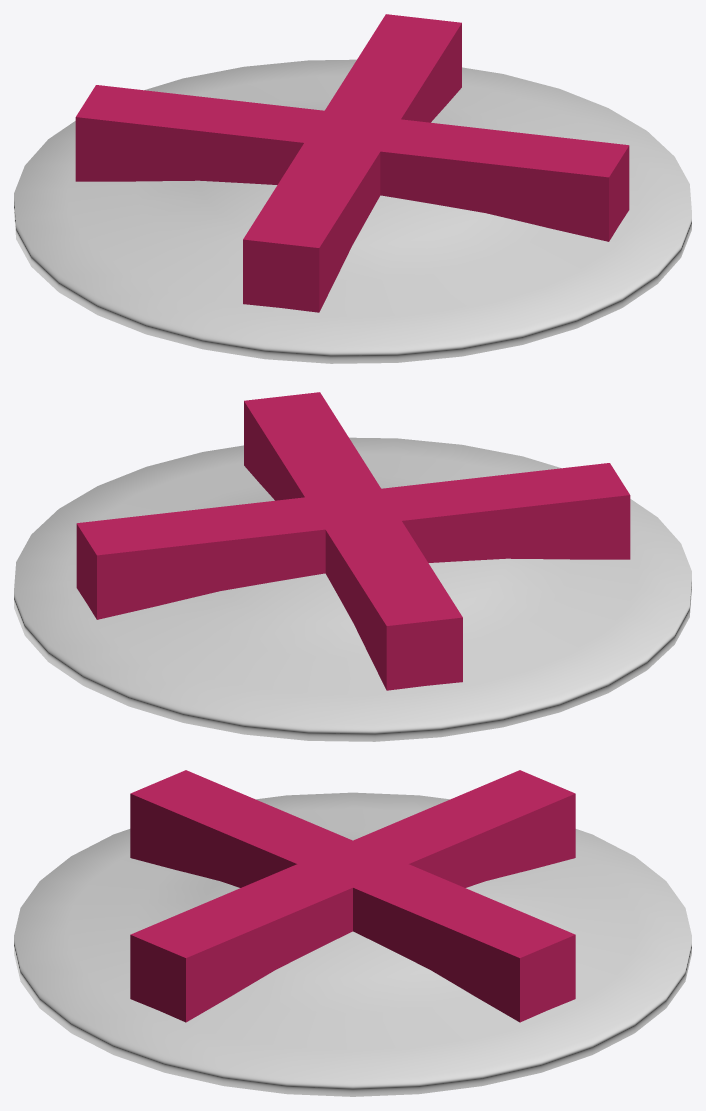
File: ExitButton.gltf
3 views of the same model, one above another, from view 1: azimuth 30°, elevation 25°; view 2: azimuth 150°, elevation 25°; view 3: azimuth 270°, elevation 25° (orthographic).
Visible parts, largest first — view 1: Cylinder, Cube; view 2: Cylinder, Cube; view 3: Cylinder, Cube.
Boxes of the visible parts, x1,y1,x2,y2 form: Cylinder: [14, 59, 691, 363]; Cube: [75, 14, 629, 312]; Cylinder: [14, 437, 691, 741]; Cube: [76, 392, 630, 690]; Cylinder: [14, 792, 691, 1096]; Cube: [130, 770, 575, 1022].
Size of the model in its own units: 2 by 0.2908 by 2.
